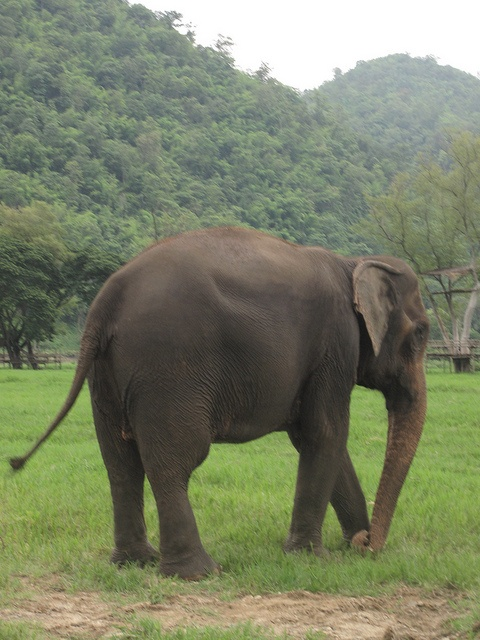elephant: (7, 226, 429, 582)
